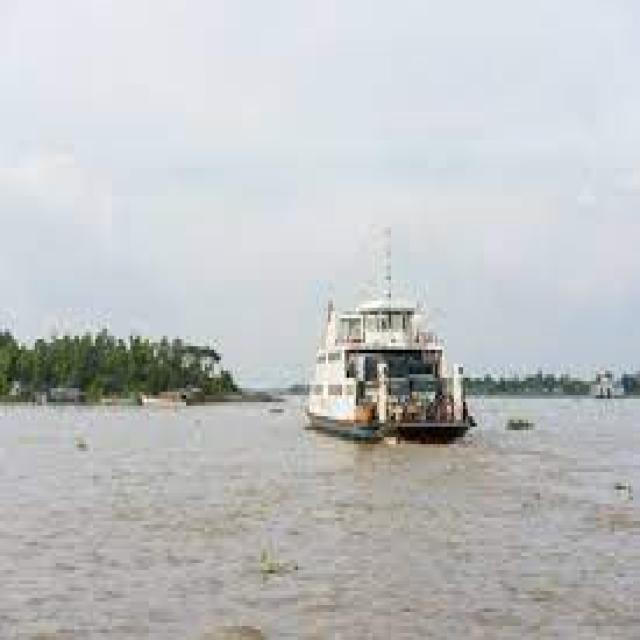houseboat: (278, 276, 470, 440)
